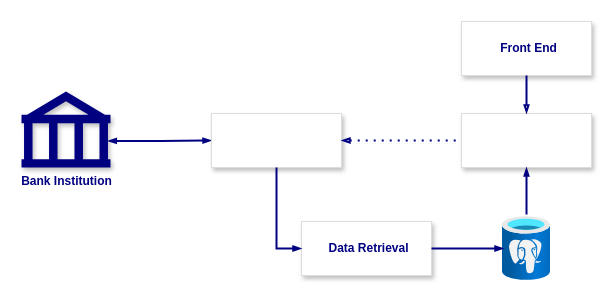
Some shapes in this 615 by 300 pixel diagram are drawn without their labels. Each missing label, with the centre of its shape:
"API" goes at (x=527, y=141).
"Bank Account Data Provider" goes at (x=277, y=141).
